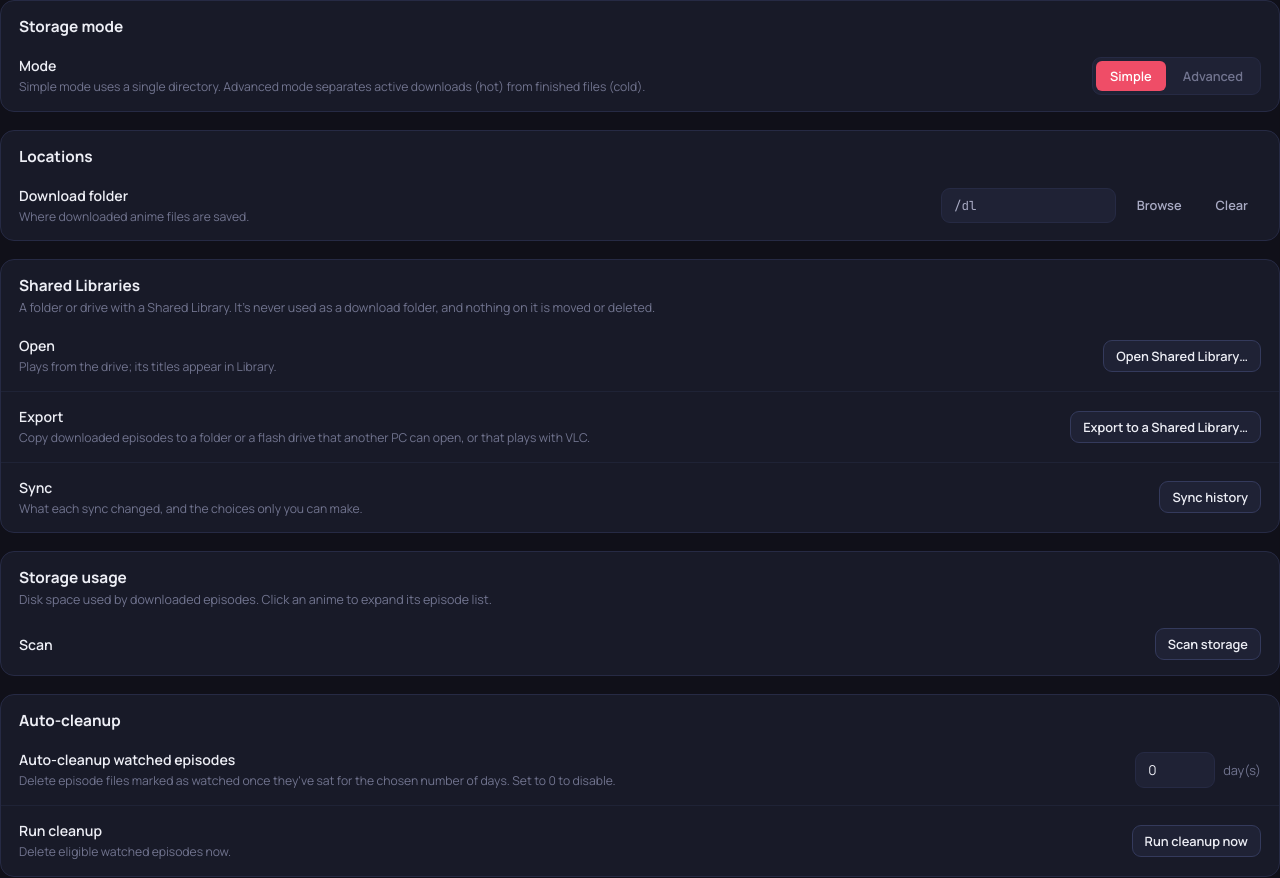
StorageTab — switching storage mode (#443) › keeps the old mode and shows the reason when main refuses
What coordinates should you click on to do the following:
click the button "Advanced"
I would click on:
 (1213, 76)
Its box is [1169,61,1257,91].
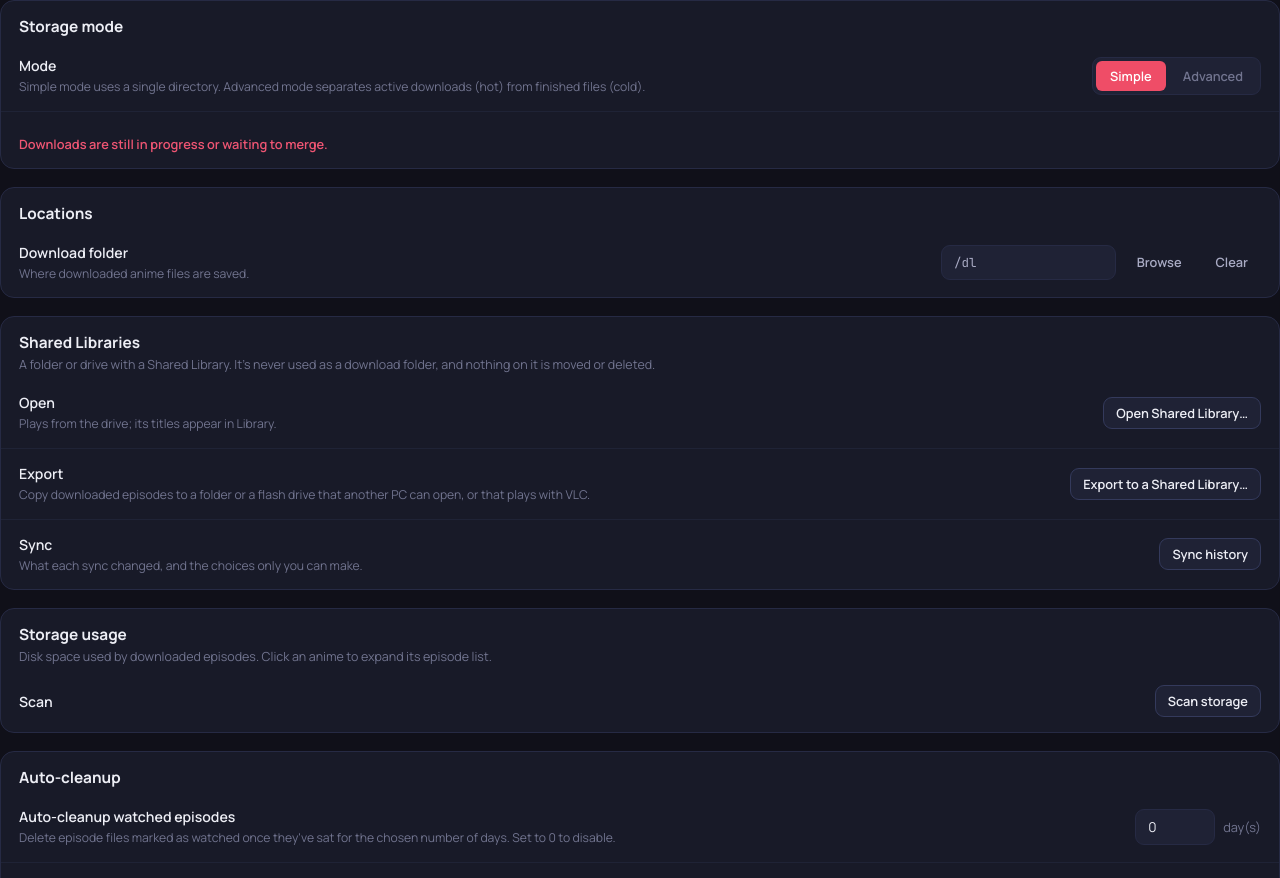
Expected: the button "Simple" is shown, [1096,61,1166,91]
Now the text "Downloads are still in progress or waiting to merge." is shown, box [19,135,328,153]
